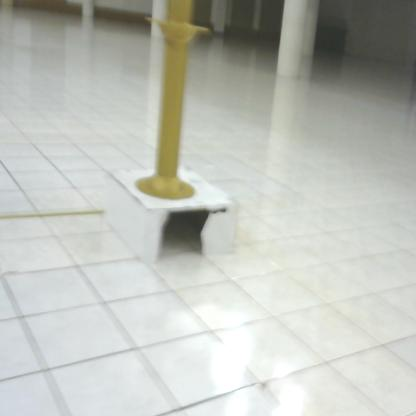pole: (134, 1, 213, 207)
